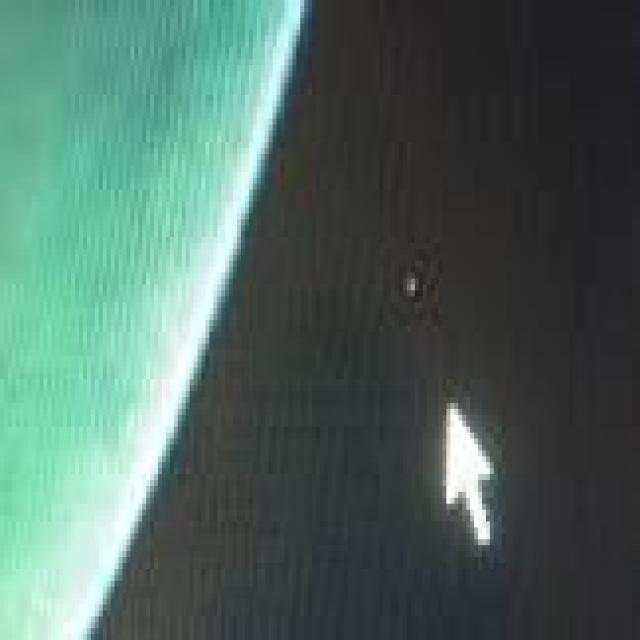dead_pixel: (399, 256, 427, 315)
